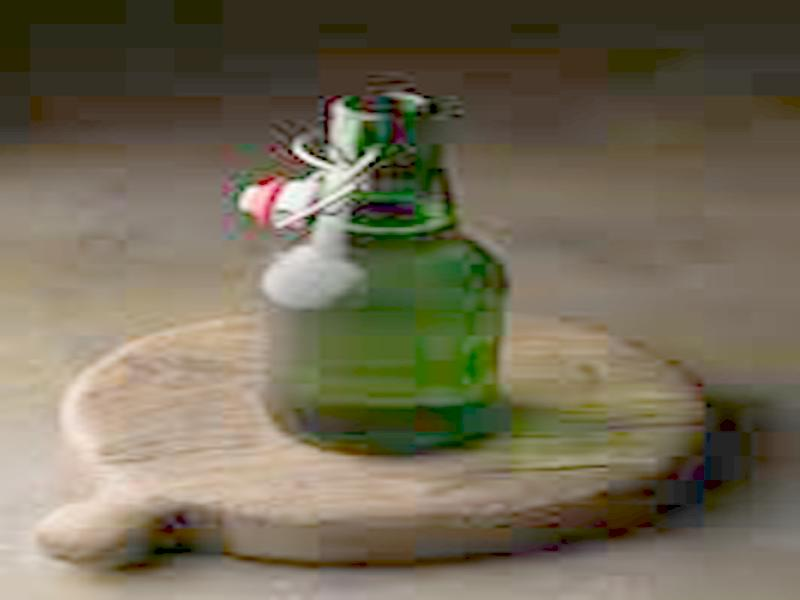Beer: (264, 87, 498, 447)
